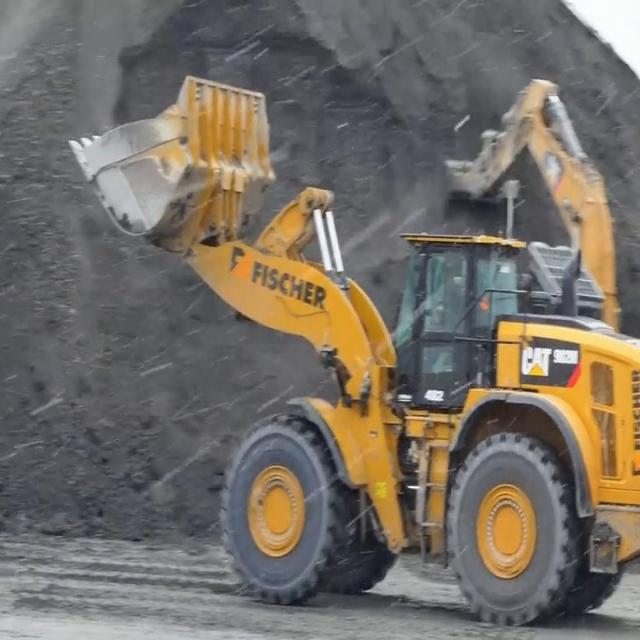Excavator: (440, 72, 625, 334)
Loader: (65, 67, 640, 629)
